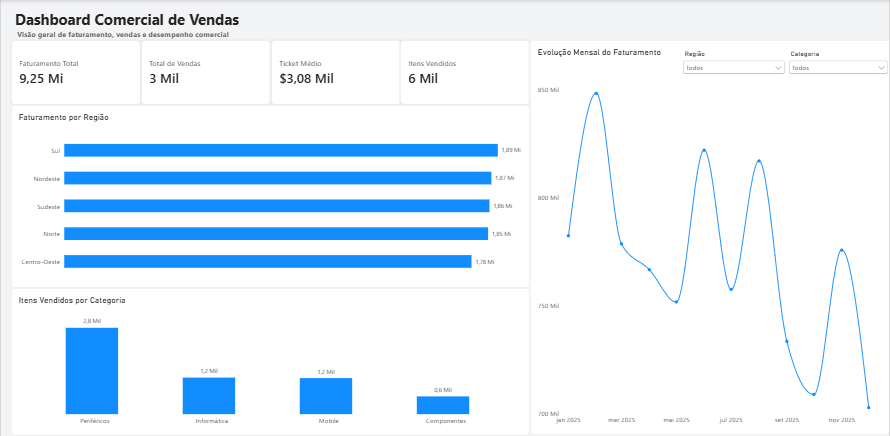

This screenshot's page, from the dashboard's own definition file:
{"tool":"powerbi","page":{"name":"Página 1","canvas":[1920,1080],"ordinal":0},"visuals":[{"type":"cardVisual","fields":{"Data":["TabelaVendas.Faturamento Total"]},"box":[21.6,86.4,280.8,140.4],"z":0},{"type":"cardVisual","fields":{"Data":["TabelaVendas.Total de Vendas"]},"box":[302.4,86.4,280.8,140.4],"z":1},{"type":"cardVisual","fields":{"Data":["TabelaVendas.Ticket Médio"]},"box":[583.2,86.4,280.8,140.4],"z":2},{"type":"cardVisual","fields":{"Data":["TabelaVendas.Itens Vendidos"]},"box":[861.8,86.4,280.8,140.4],"z":3},{"type":"textbox","box":[112.3,289.4,177.1,250.6],"z":4},{"type":"textbox","box":[21.6,19.4,864,88.6],"z":5},{"type":"lineChart","title":"Evolução Mensal do Faturamento","fields":{"Category":["TabelaVendas.Data.Variation.Hierarquia de datas.Ano","TabelaVendas.Data.Variation.Hierarquia de datas.Trimestre","TabelaVendas.Data.Variation.Hierarquia de datas.Mês","TabelaVendas.Data.Variation.Hierarquia de datas.Dia"],"Y":["TabelaVendas.Faturamento Total"]},"box":[1142.6,86.4,777.6,853.2],"z":6},{"type":"clusteredBarChart","title":"Faturamento por Região","fields":{"Category":["TabelaVendas.Região"],"Y":["TabelaVendas.Faturamento Total"]},"box":[21.6,226.8,1121,395.3],"z":7},{"type":"clusteredColumnChart","title":"Itens Vendidos por Categoria","fields":{"Category":["TabelaVendas.Categoria"],"Y":["TabelaVendas.Itens Vendidos"]},"box":[21.6,622.1,1121,317.5],"z":8},{"type":"slicer","fields":{"Values":["TabelaVendas.Região"]},"box":[1468.8,108,229,97.2],"z":9},{"type":"slicer","fields":{"Values":["TabelaVendas.Categoria"]},"box":[1697.8,108,222.5,97.2],"z":10}]}

Visuals, with their boxes on the page's 1920x1080 design canvas (x1, y1, x2, y2). These are canvas units, not pixel positions in the 890x436 screenshot, which may show the page scaled, cropped or inside an application window:
cardVisual - TabelaVendas.Faturamento Total: pyautogui.locateOnScreen(22, 86, 302, 227)
cardVisual - TabelaVendas.Total de Vendas: pyautogui.locateOnScreen(302, 86, 583, 227)
cardVisual - TabelaVendas.Ticket Médio: pyautogui.locateOnScreen(583, 86, 864, 227)
cardVisual - TabelaVendas.Itens Vendidos: pyautogui.locateOnScreen(862, 86, 1143, 227)
textbox: pyautogui.locateOnScreen(112, 289, 289, 540)
textbox: pyautogui.locateOnScreen(22, 19, 886, 108)
"Evolução Mensal do Faturamento" lineChart: pyautogui.locateOnScreen(1143, 86, 1920, 940)
"Faturamento por Região" clusteredBarChart: pyautogui.locateOnScreen(22, 227, 1143, 622)
"Itens Vendidos por Categoria" clusteredColumnChart: pyautogui.locateOnScreen(22, 622, 1143, 940)
slicer - TabelaVendas.Região: pyautogui.locateOnScreen(1469, 108, 1698, 205)
slicer - TabelaVendas.Categoria: pyautogui.locateOnScreen(1698, 108, 1920, 205)
